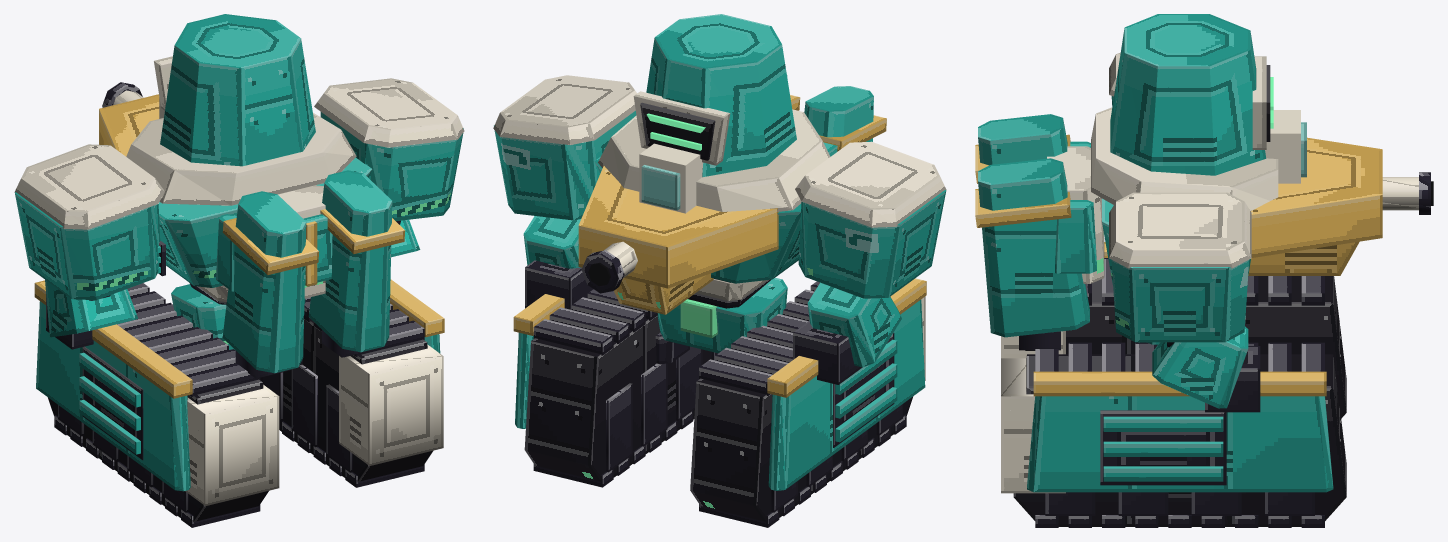
Rendered from bda-liberty.glb.
3 views of the same model, side by side, from view 1: azimuth 30°, elevation 25°; view 2: azimuth 150°, elevation 25°; view 3: azimuth 270°, elevation 25° (orthographic). The views are drawn at different scales.
Visible parts, largest first — view 1: liberty-22; view 2: liberty-22; view 3: liberty-22.
Part boxes in pixels (x1,y1,x2,y2): liberty-22: (14, 14, 464, 527); liberty-22: (493, 14, 946, 527); liberty-22: (975, 14, 1433, 527).
Bounding box in the file's own units: 2.06 × 1.98 × 1.93.
117 materials, 114 textured.
